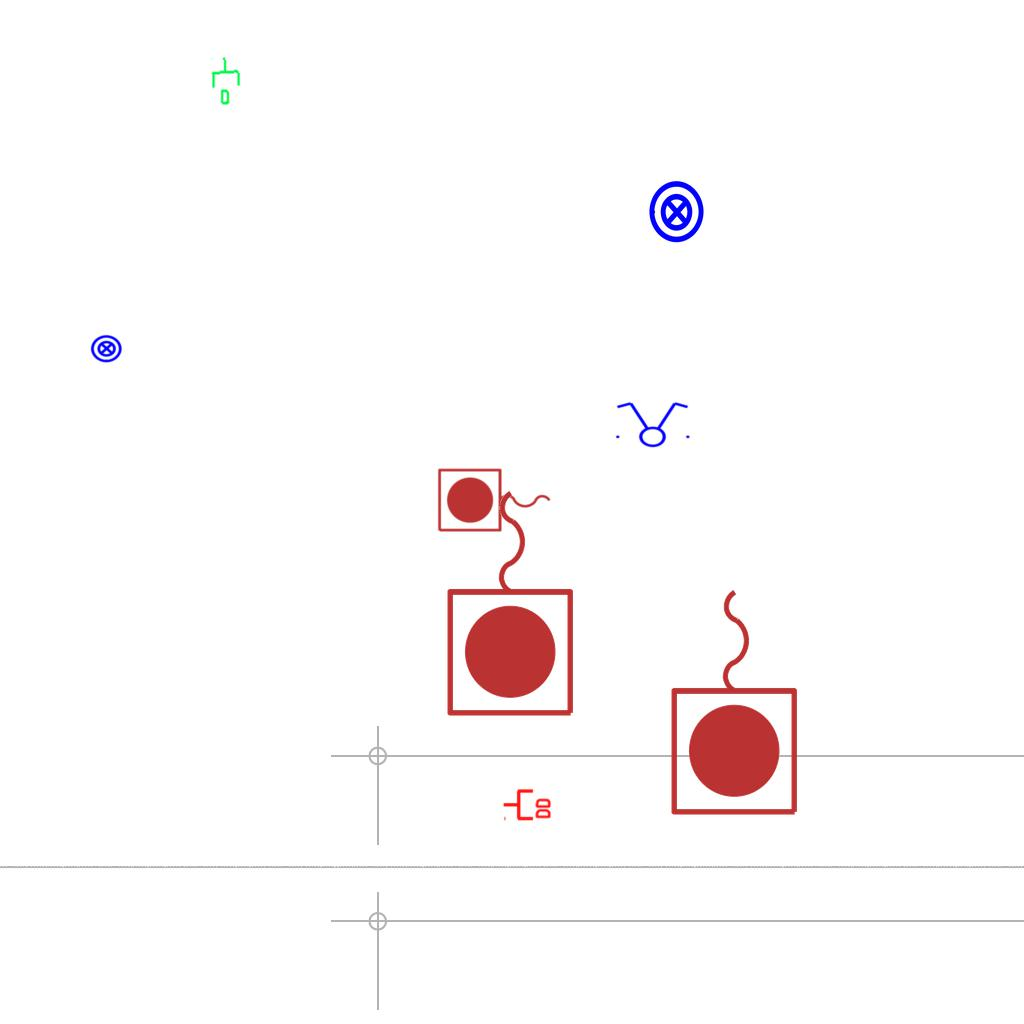Datenanschluss_einfach: (208, 54, 246, 108)
Datenanschluss_zweifach: (502, 787, 553, 821)
Serienschalter: (610, 400, 694, 448)
Taster_beleuchtet: (644, 179, 710, 245), (90, 332, 123, 365)
Zugtaster: (664, 579, 808, 823), (440, 480, 584, 724), (434, 465, 556, 537)
